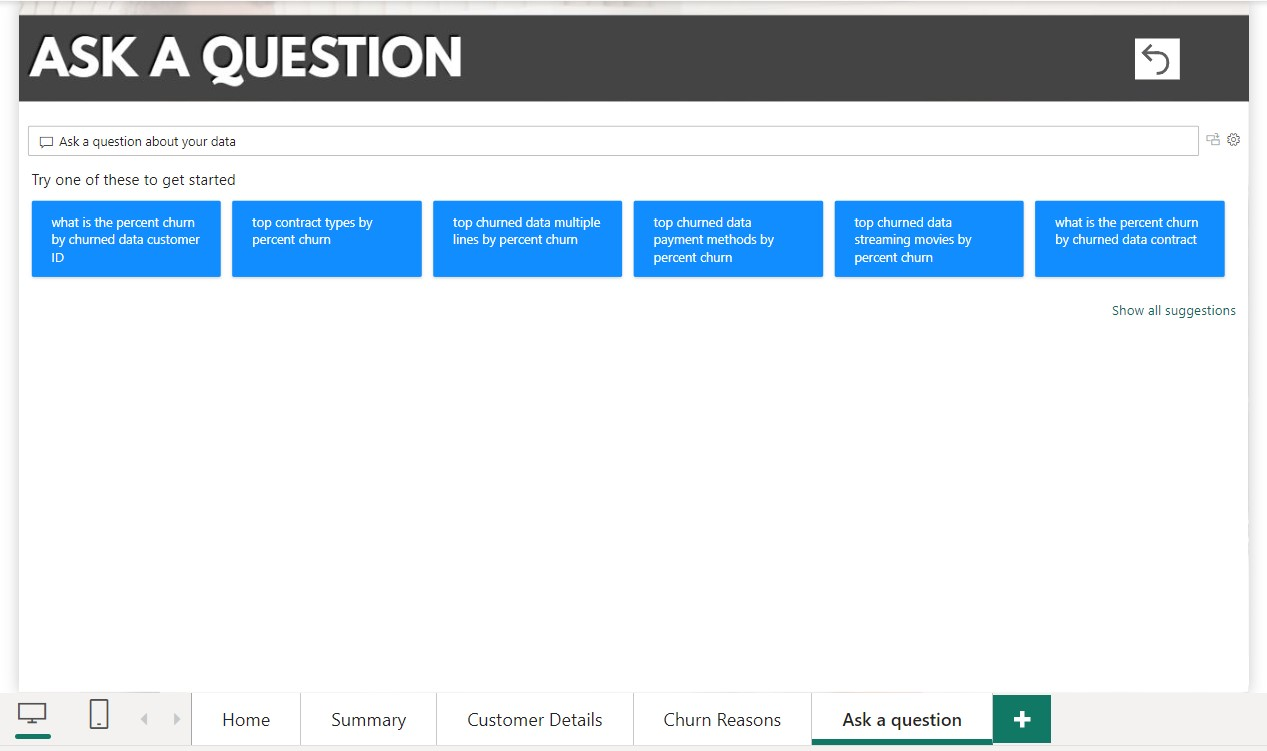

The page's visual inventory and layout, read from the dashboard file:
{"tool":"powerbi","page":{"name":"Ask a question","canvas":[1280,720],"ordinal":4},"visuals":[{"type":"qnaVisual","box":[0,105.1,1280,614.9],"z":0},{"type":"actionButton","box":[1161.8,39.4,46.6,43],"z":1000}]}

Visuals, with their boxes on the page's 1280x720 design canvas (x1, y1, x2, y2). These are canvas units, not pixel positions in the 1267x751 screenshot, which may show the page scaled, cropped or inside an application window:
qnaVisual: 0:105:1280:720
actionButton: 1162:39:1208:82
